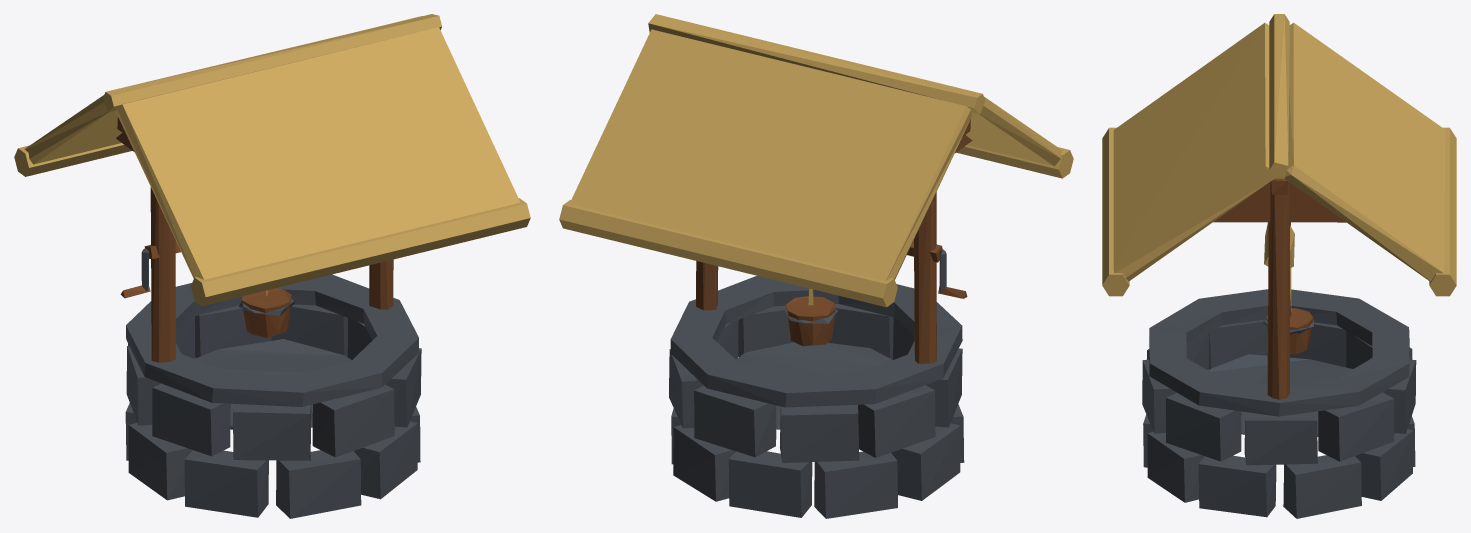
The model's file is village_well_lod1.obj.
The picture shows the model from 3 angles, left to right: view 1: azimuth 30°, elevation 25°; view 2: azimuth 150°, elevation 25°; view 3: azimuth 270°, elevation 25°; orthographic projection. The views are drawn at different scales.
Parts seen in each view (by area): view 1: village_well_lod1; view 2: village_well_lod1; view 3: village_well_lod1.
Part boxes in pixels (<box>): village_well_lod1: <box>14,14,530,518</box>; village_well_lod1: <box>559,14,1073,518</box>; village_well_lod1: <box>1102,14,1456,518</box>.
Size of the model in its own units: 2.04 by 2.39 by 2.06.
